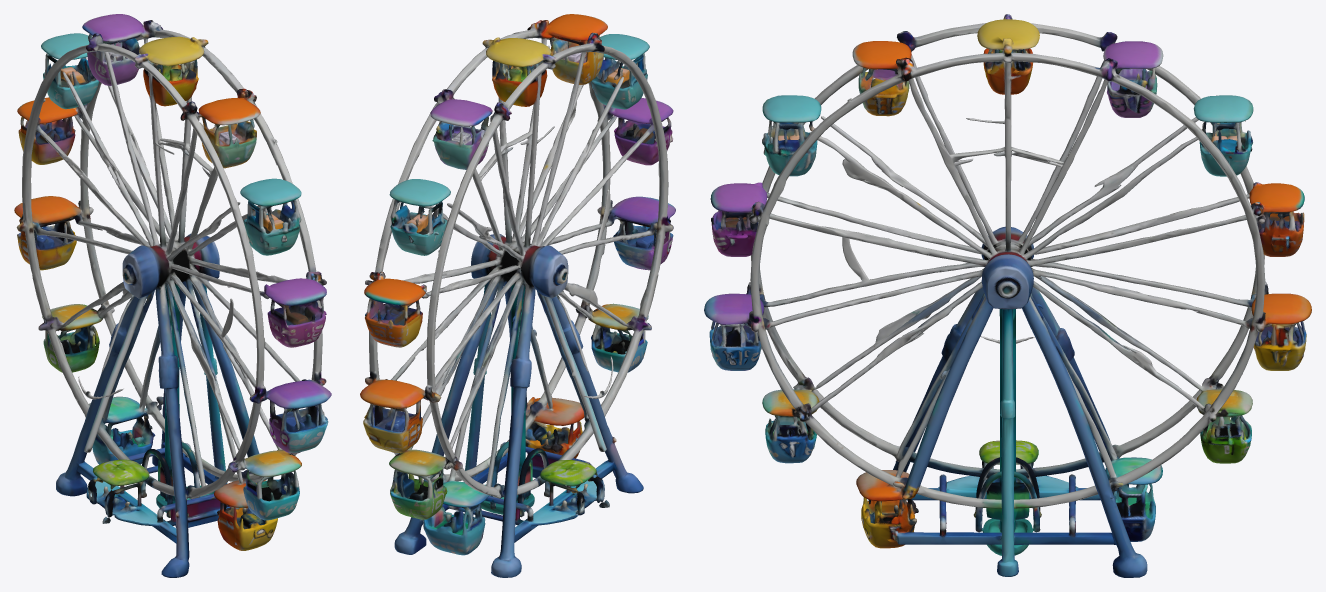
The model's file is building-ferris-wheel.glb.
3 views of the same model, side by side, from view 1: azimuth 30°, elevation 25°; view 2: azimuth 150°, elevation 25°; view 3: azimuth 270°, elevation 25° (orthographic). The views are drawn at different scales.
Parts seen in each view (by area): view 1: tripo_node_3b885bca-2a33-4df2-9a2b-dc135bc65424; view 2: tripo_node_3b885bca-2a33-4df2-9a2b-dc135bc65424; view 3: tripo_node_3b885bca-2a33-4df2-9a2b-dc135bc65424.
Boxes of the visible parts, bbox=[...] form: tripo_node_3b885bca-2a33-4df2-9a2b-dc135bc65424: bbox=[14, 14, 331, 577]; tripo_node_3b885bca-2a33-4df2-9a2b-dc135bc65424: bbox=[360, 14, 675, 577]; tripo_node_3b885bca-2a33-4df2-9a2b-dc135bc65424: bbox=[704, 14, 1311, 577].
Size of the model in its own units: 8.38 by 25 by 26.63.
Materials: 1 (1 with a texture image).
